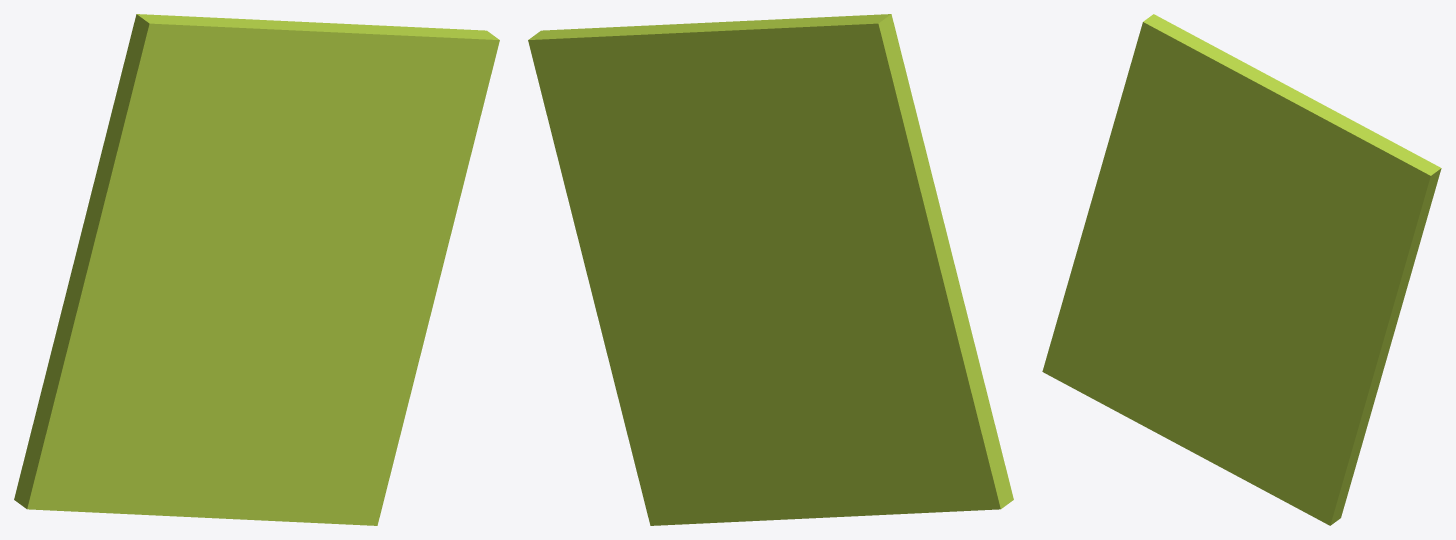
The picture shows the model from 3 angles, left to right: view 1: azimuth 30°, elevation 25°; view 2: azimuth 150°, elevation 25°; view 3: azimuth 330°, elevation 25°; orthographic projection. The views are drawn at different scales.
Parts seen in each view (by area): view 1: osm-way27917482-F2; view 2: osm-way27917482-F2; view 3: osm-way27917482-F2.
Part boxes in pixels (bbox=[...]): osm-way27917482-F2: bbox=[14, 14, 499, 525]; osm-way27917482-F2: bbox=[528, 14, 1013, 525]; osm-way27917482-F2: bbox=[1042, 14, 1441, 525].
Bounding box in the file's own units: 3.13 × 3.52 × 0.15.
